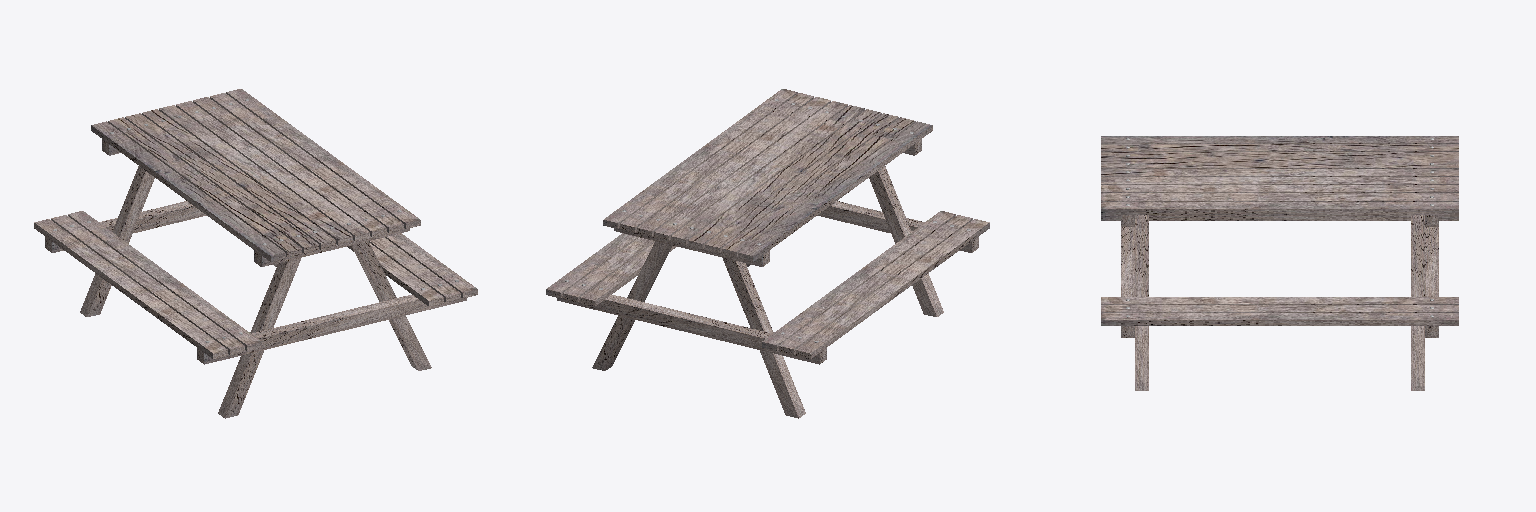
The picture shows the model from 3 angles: view 1: azimuth 30°, elevation 25°; view 2: azimuth 150°, elevation 25°; view 3: azimuth 270°, elevation 25°; orthographic projection.
Parts seen in each view (by area): view 1: Box001, Box007, Box006, Box004, LegSlant2, Box008, LegSlant4, Box005, Box002; view 2: Box001, Box007, Box006, Box005, Box008, LegSlant2, LegSlant3, Box004, Box003; view 3: Box001, Box006, LegSlant3, LegSlant4, Box007, Box004, Box005.
Part boxes in pixels (bbox=[...]): Box001: bbox=[91, 89, 420, 261]; Box007: bbox=[34, 211, 261, 358]; Box006: bbox=[347, 233, 477, 306]; Box004: bbox=[197, 295, 466, 364]; LegSlant2: bbox=[218, 258, 300, 418]; Box008: bbox=[80, 166, 154, 316]; LegSlant4: bbox=[351, 241, 431, 370]; Box005: bbox=[45, 201, 206, 252]; Box002: bbox=[254, 228, 409, 266]; Box001: bbox=[603, 89, 932, 261]; Box007: bbox=[762, 211, 989, 358]; Box006: bbox=[546, 233, 676, 306]; Box005: bbox=[557, 295, 826, 364]; Box008: bbox=[723, 258, 805, 418]; LegSlant2: bbox=[869, 166, 943, 316]; LegSlant3: bbox=[592, 241, 672, 370]; Box004: bbox=[817, 201, 978, 252]; Box003: bbox=[614, 228, 769, 266]; Box001: bbox=[1101, 136, 1458, 214]; Box006: bbox=[1101, 297, 1458, 325]; LegSlant3: bbox=[1411, 215, 1424, 390]; LegSlant4: bbox=[1135, 215, 1148, 390]; Box007: bbox=[1101, 215, 1458, 220]; Box004: bbox=[1121, 227, 1134, 337]; Box005: bbox=[1425, 227, 1438, 337].
Size of the model in its own units: 141 by 85.89 by 166.
Materials: 2 (2 with a texture image).